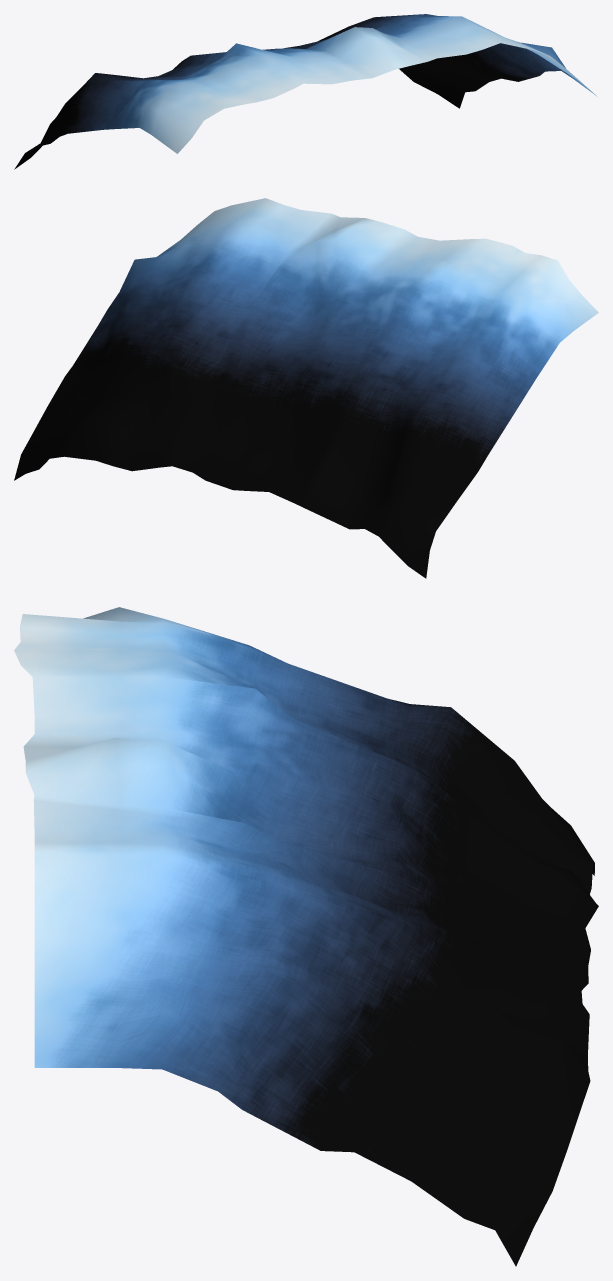
Rendered from envBGPlaceHolder.fbx.
3 views of the same model, one above another, from view 1: azimuth 30°, elevation 25°; view 2: azimuth 150°, elevation 25°; view 3: azimuth 270°, elevation 25° (orthographic). The views are drawn at different scales.
Visible parts, largest first — view 1: topCeiling; view 2: topCeiling; view 3: topCeiling.
Part boxes in pixels (<box>): topCeiling: <box>14,14,597,169</box>; topCeiling: <box>14,198,598,578</box>; topCeiling: <box>14,607,598,1266</box>.
Bounding box in the file's own units: 6.28 × 2.96 × 4.41.
